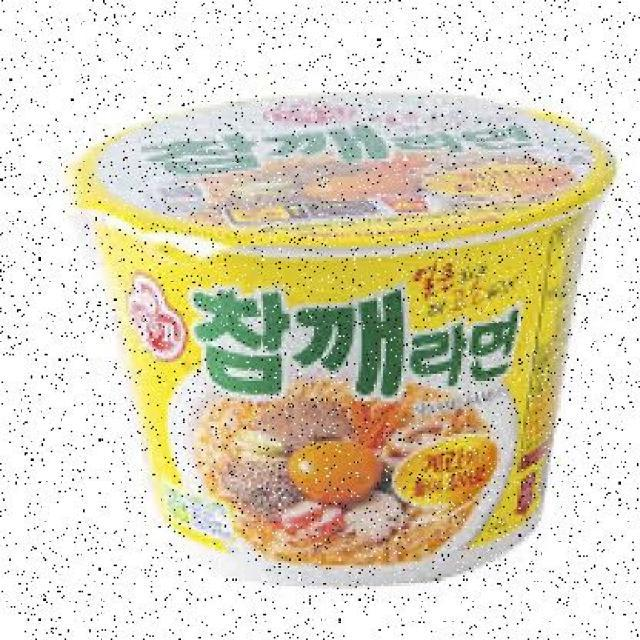Miscellaneous: (57, 81, 626, 590)
